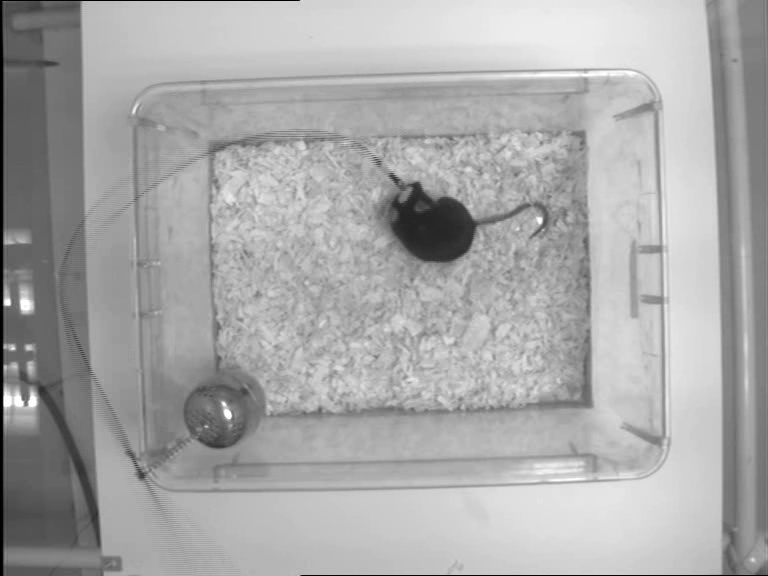mice: (388, 179, 550, 264)
